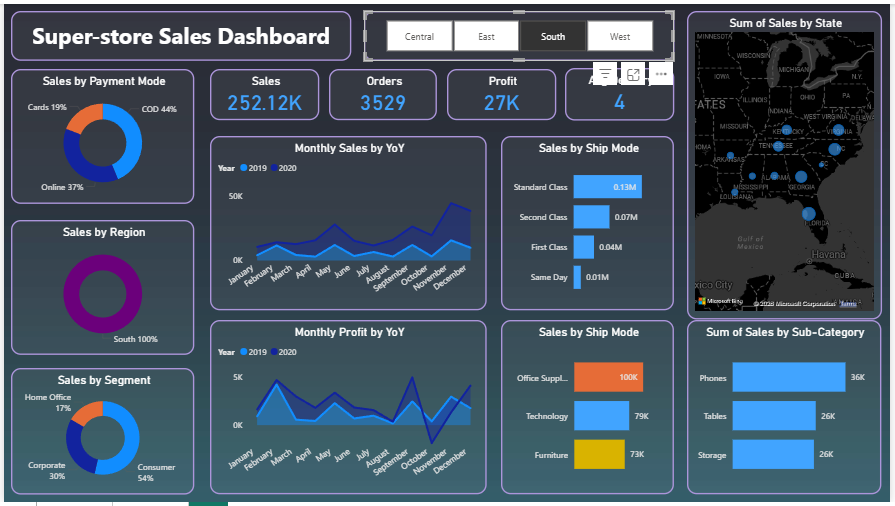

This screenshot's page, from the dashboard's own definition file:
{"tool":"powerbi","page":{"name":"Page 1","canvas":[1280,720],"ordinal":0},"visuals":[{"type":"textbox","box":[10.1,10.1,492.2,72.2],"z":0},{"type":"donutChart","title":"Sales by Payment Mode","fields":{"Category":["SuperStore_Sales_Dataset.Payment Mode"],"Y":["Sum(SuperStore_Sales_Dataset.Sales)"]},"box":[10.1,94.1,265.4,194.9],"z":1000},{"type":"donutChart","title":"Sales by Region","fields":{"Category":["SuperStore_Sales_Dataset.Region"],"Y":["Sum(SuperStore_Sales_Dataset.Sales)"]},"box":[10.1,312.4,265.4,194.9],"z":2000},{"type":"donutChart","title":"Sales by Segment","fields":{"Y":["Sum(SuperStore_Sales_Dataset.Sales)"],"Category":["SuperStore_Sales_Dataset.Segment"]},"box":[10.1,525.8,265.4,183.1],"z":3000},{"type":"slicer","fields":{"Values":["SuperStore_Sales_Dataset.Region"]},"box":[520.7,10.1,448.5,72.2],"z":4000},{"type":"card","title":"Sales","fields":{"Values":["Sum(SuperStore_Sales_Dataset.Sales)"]},"box":[297.3,94.1,157.9,73.9],"z":5000},{"type":"card","title":"Profit","fields":{"Values":["Sum(SuperStore_Sales_Dataset.Profit)"]},"box":[640,94.1,157.9,73.9],"z":6000},{"type":"card","title":"Orders","fields":{"Values":["Sum(SuperStore_Sales_Dataset.Quantity)"]},"box":[470.3,94.1,156.2,73.9],"z":7000},{"type":"card","title":"Avg Delivery","fields":{"Values":["Avg(SuperStore_Sales_Dataset.AvgDelivery)"]},"box":[811.3,92.4,157.9,75.6],"z":8000},{"type":"stackedAreaChart","title":"Monthly Sales by YoY","fields":{"Category":["SuperStore_Sales_Dataset.Order Date.Variation.Date Hierarchy.Month"],"Y":["Sum(SuperStore_Sales_Dataset.Sales)"],"Series":["SuperStore_Sales_Dataset.Order Date.Variation.Date Hierarchy.Year"]},"box":[297.3,191.5,399.8,252],"z":9000},{"type":"stackedAreaChart","title":"Monthly Profit by YoY","fields":{"Category":["SuperStore_Sales_Dataset.Order Date.Variation.Date Hierarchy.Month"],"Y":["Sum(SuperStore_Sales_Dataset.Profit)"],"Series":["SuperStore_Sales_Dataset.Order Date.Variation.Date Hierarchy.Year"]},"box":[297.3,456.9,399.8,252],"z":10000},{"type":"clusteredBarChart","title":"Sales by Ship Mode","fields":{"Y":["Sum(SuperStore_Sales_Dataset.Sales)"],"Category":["SuperStore_Sales_Dataset.Ship Mode"]},"box":[719,191.5,250.3,252],"z":11000},{"type":"clusteredBarChart","title":"Sales by Ship Mode","fields":{"Y":["Sum(SuperStore_Sales_Dataset.Sales)"],"Category":["SuperStore_Sales_Dataset.Category"]},"box":[719,456.9,250.3,252],"z":12000},{"type":"clusteredBarChart","fields":{"Y":["Sum(SuperStore_Sales_Dataset.Sales)"],"Category":["SuperStore_Sales_Dataset.Sub-Category"]},"box":[987.7,456.9,280.5,252],"z":13000},{"type":"map","fields":{"Category":["SuperStore_Sales_Dataset.State"],"Size":["Sum(SuperStore_Sales_Dataset.Sales)"]},"box":[987.5,10.1,281.9,446],"z":14000}]}

Visuals, with their boxes in screenshot pixels (x1, y1, x2, y2), scaled from the page's 1280x720 canvas onto the 895x506 screenshot:
textbox: rect(7, 7, 351, 58)
"Sales by Payment Mode" donutChart: rect(7, 66, 193, 203)
"Sales by Region" donutChart: rect(7, 220, 193, 357)
"Sales by Segment" donutChart: rect(7, 370, 193, 498)
slicer - SuperStore_Sales_Dataset.Region: rect(364, 7, 678, 58)
"Sales" card: rect(208, 66, 318, 118)
"Profit" card: rect(448, 66, 558, 118)
"Orders" card: rect(329, 66, 438, 118)
"Avg Delivery" card: rect(567, 65, 678, 118)
"Monthly Sales by YoY" stackedAreaChart: rect(208, 135, 487, 312)
"Monthly Profit by YoY" stackedAreaChart: rect(208, 321, 487, 498)
"Sales by Ship Mode" clusteredBarChart: rect(503, 135, 678, 312)
"Sales by Ship Mode" clusteredBarChart: rect(503, 321, 678, 498)
clusteredBarChart - Sum(SuperStore_Sales_Dataset.Sales) x SuperStore_Sales_Dataset.Sub-Category: rect(691, 321, 887, 498)
map - SuperStore_Sales_Dataset.State x Sum(SuperStore_Sales_Dataset.Sales): rect(690, 7, 888, 321)
